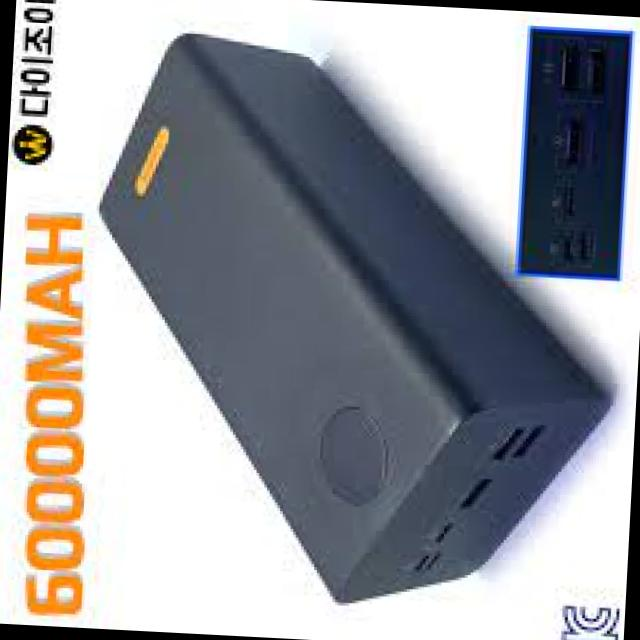power_bank: (78, 23, 633, 622)
